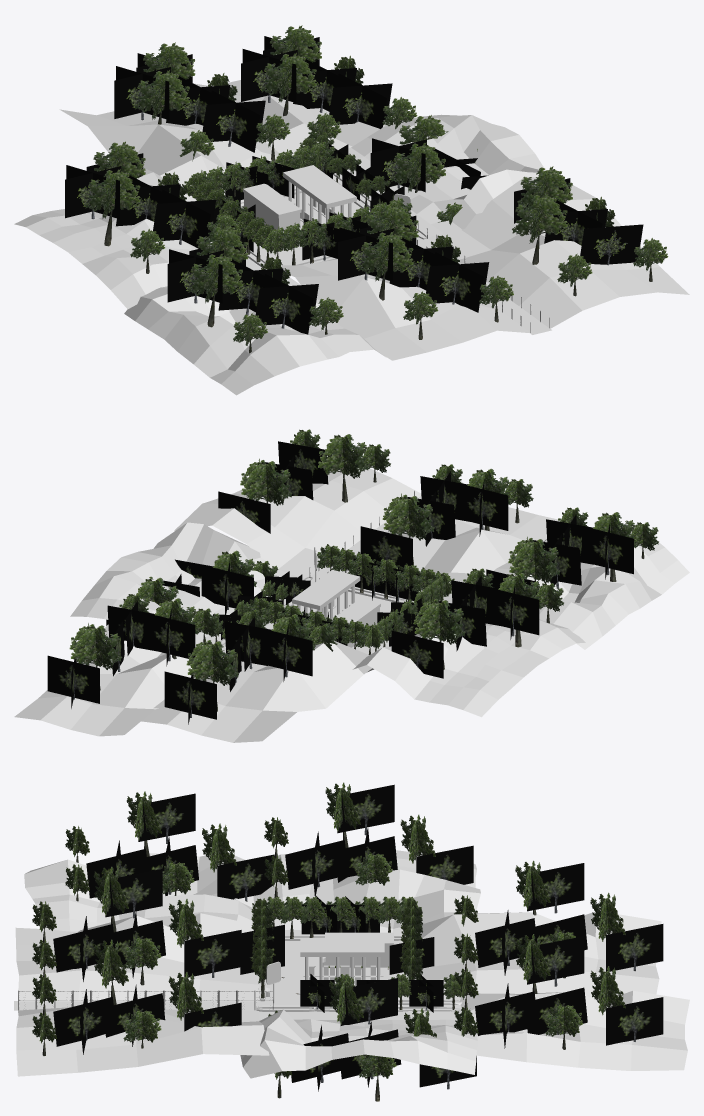
Rendered from Gas Station.fbx.
The picture shows the model from 3 angles, top to bottom: view 1: azimuth 30°, elevation 25°; view 2: azimuth 150°, elevation 25°; view 3: azimuth 270°, elevation 25°; orthographic projection. The views are drawn at different scales.
Parts seen in each view (by area): view 1: LandScape/Trees, Gas Station Trees, Store, Gas Pumbs Roof.001, Ground, Road(1), Gas Pumbs Roof; view 2: LandScape/Trees, Gas Station Trees, Gas Pumbs Roof, Ground, Store, Gas Pumbs Roof.001; view 3: LandScape/Trees, Gas Station Trees, Ground, Gas Pumbs Roof.001, Road(1), Store, Gas Pumbs Roof, Gas pumbs.
Part boxes in pixels (left/top/right/bottom): LandScape/Trees: left=14, top=25, right=689, bottom=395; Gas Station Trees: left=184, top=134, right=426, bottom=267; Store: left=243, top=183, right=301, bottom=232; Gas Pumbs Roof.001: left=283, top=165, right=348, bottom=223; Ground: left=242, top=175, right=418, bottom=265; Road(1): left=416, top=236, right=551, bottom=334; Gas Pumbs Roof: left=290, top=176, right=356, bottom=208; LandScape/Trees: left=14, top=429, right=689, bottom=742; Gas Station Trees: left=208, top=544, right=454, bottom=654; Gas Pumbs Roof: left=299, top=570, right=360, bottom=600; Ground: left=221, top=581, right=392, bottom=654; Store: left=331, top=598, right=380, bottom=647; Gas Pumbs Roof.001: left=292, top=584, right=350, bottom=619; LandScape/Trees: left=15, top=782, right=689, bottom=1101; Gas Station Trees: left=240, top=896, right=463, bottom=1012; Ground: left=259, top=940, right=461, bottom=1008; Gas Pumbs Roof.001: left=315, top=938, right=384, bottom=986; Road(1): left=14, top=1001, right=262, bottom=1010; Store: left=325, top=932, right=393, bottom=967; Gas Pumbs Roof: left=300, top=938, right=369, bottom=956; Gas pumbs: left=303, top=957, right=368, bottom=984.
Bounding box in the file's own units: 25238 × 7570 × 33454.
